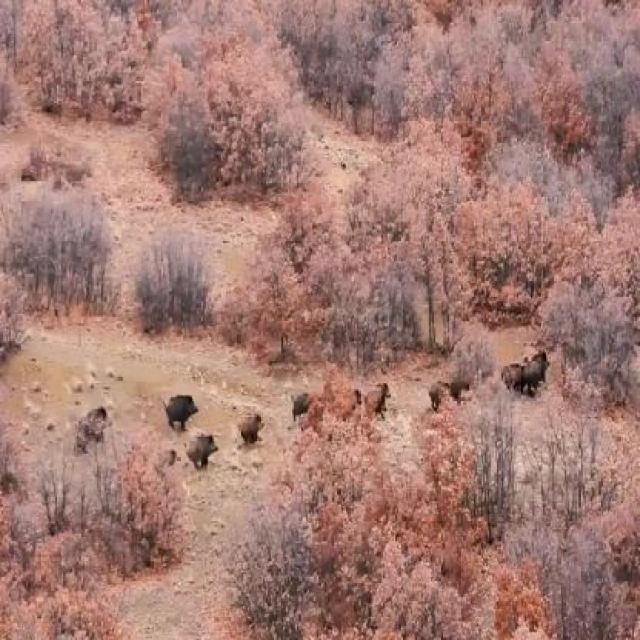pig: (77, 396, 126, 442), (168, 377, 195, 427), (532, 346, 554, 407), (432, 374, 472, 406), (237, 395, 261, 447), (196, 425, 217, 480), (369, 372, 388, 420), (152, 434, 182, 464), (505, 354, 523, 393), (344, 369, 358, 419), (290, 375, 304, 418)
